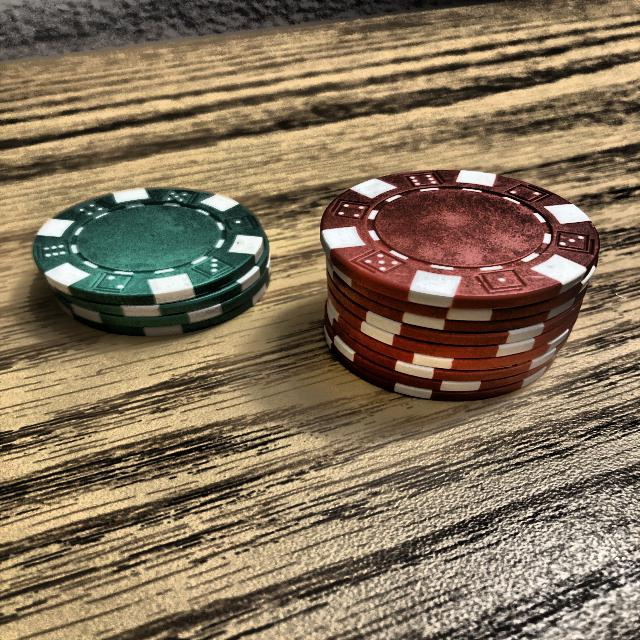Chip: (296, 151, 614, 399), (18, 166, 288, 371)
